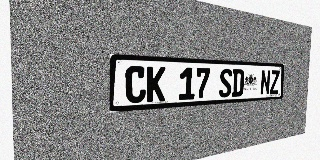1: (179, 67, 195, 100)
7: (195, 68, 210, 99)
C: (125, 66, 146, 104)
D: (232, 69, 244, 97)
K: (146, 66, 166, 102)
N: (260, 70, 271, 95)
S: (219, 69, 232, 98)
Z: (270, 70, 280, 94)
